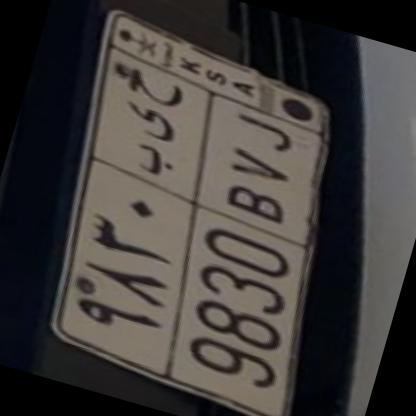english: (154, 68, 350, 414)
